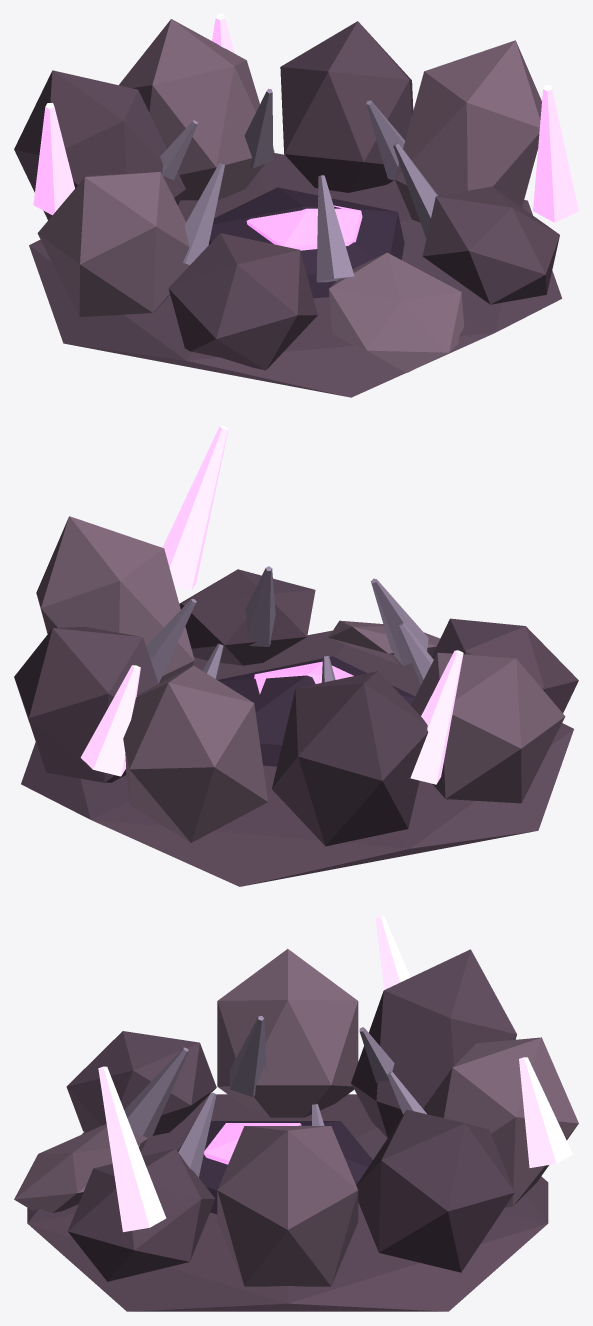
The model's file is enemy_crawler_nest.glb.
3 renders of one model, top to bottom at view 1: azimuth 30°, elevation 25°; view 2: azimuth 150°, elevation 25°; view 3: azimuth 270°, elevation 25°, orthographic. The views are drawn at different scales.
Parts seen in each view (by area): view 1: Nest_Skirt, Nest_Rim_0, Nest_Rim_4, Nest_Rim_1, Nest_Rim_5, Nest_Rim_2, Nest_Rim_7, Nest_Rim_6, Nest_Rim_3, Nest_Throat, Nest_Crystal_0, Nest_Glow (+8 smaller); view 2: Nest_Skirt, Nest_Rim_3, Nest_Rim_2, Nest_Rim_4, Nest_Rim_0, Nest_Rim_1, Nest_Rim_7, Nest_Rim_5, Nest_Crystal_0, Nest_Throat, Nest_Crystal_1, Nest_Crystal_2 (+6 smaller); view 3: Nest_Skirt, Nest_Rim_0, Nest_Rim_1, Nest_Rim_4, Nest_Rim_3, Nest_Rim_7, Nest_Rim_2, Nest_Rim_5, Nest_Rim_6, Nest_Crystal_0, Nest_Crystal_2, Nest_Throat (+7 smaller).
Boxes of the visible parts, <box> form: Nest_Skirt: <box>29,153,562,397</box>; Nest_Rim_0: <box>394,40,541,222</box>; Nest_Rim_4: <box>37,172,189,316</box>; Nest_Rim_1: <box>280,21,413,192</box>; Nest_Rim_5: <box>168,233,317,370</box>; Nest_Rim_2: <box>119,19,274,200</box>; Nest_Rim_7: <box>422,186,559,304</box>; Nest_Rim_6: <box>329,252,464,372</box>; Nest_Rim_3: <box>14,70,185,220</box>; Nest_Throat: <box>208,187,404,298</box>; Nest_Crystal_0: <box>533,85,578,222</box>; Nest_Glow: <box>246,205,362,250</box>; Nest_Skirt: <box>21,630,573,886</box>; Nest_Rim_3: <box>272,671,428,846</box>; Nest_Rim_2: <box>123,665,268,842</box>; Nest_Rim_4: <box>411,652,565,803</box>; Nest_Rim_0: <box>36,516,194,683</box>; Nest_Rim_1: <box>14,626,158,782</box>; Nest_Rim_7: <box>179,569,315,665</box>; Nest_Rim_5: <box>432,618,578,712</box>; Nest_Crystal_0: <box>162,426,228,590</box>; Nest_Throat: <box>217,656,414,766</box>; Nest_Crystal_1: <box>410,650,463,784</box>; Nest_Crystal_2: <box>80,665,140,776</box>; Nest_Skirt: <box>27,1094,548,1311</box>; Nest_Rim_0: <box>217,1126,358,1286</box>; Nest_Rim_1: <box>356,1110,514,1272</box>; Nest_Rim_4: <box>217,949,358,1117</box>; Nest_Rim_3: <box>351,949,516,1137</box>; Nest_Rim_7: <box>67,1148,215,1281</box>; Nest_Rim_2: <box>423,1037,578,1207</box>; Nest_Rim_5: <box>66,1031,216,1135</box>; Nest_Rim_6: <box>14,1124,147,1212</box>; Nest_Crystal_0: <box>98,1066,166,1232</box>; Nest_Crystal_2: <box>519,1057,572,1167</box>; Nest_Throat: <box>177,1121,372,1214</box>.
Size of the model in its own units: 1.39 by 0.6681 by 1.37.
